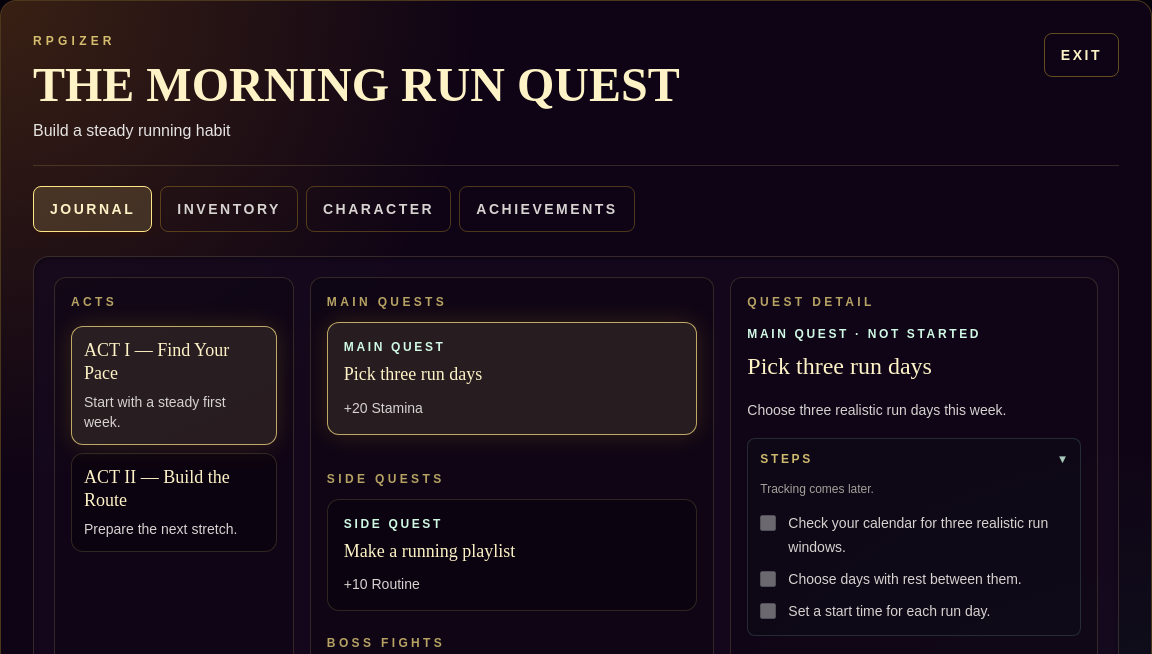
Test: AdventureDetailMenuScreen › renders Character empty state without implying skills exist
Click the tab "Character" at (379, 209), box x1=306 y1=186 x2=451 y2=232
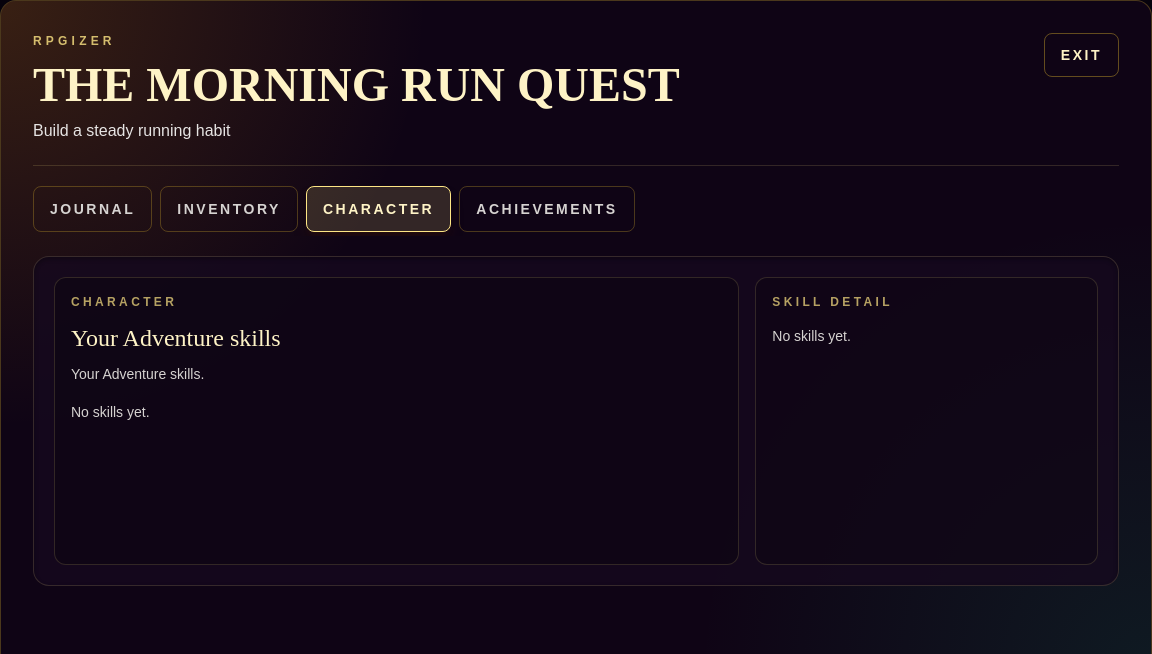
Result: the panel shows "No skills yet." at x1=71 y1=404 x2=150 y2=420
Result: the button "+20 Stamina" no longer shows "Stamina"
